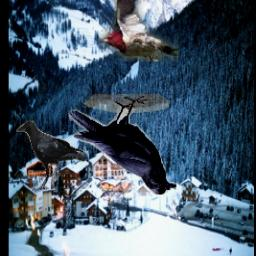Crow: (69, 94, 177, 195), (16, 118, 85, 190)
Woodpecker: (98, 0, 178, 63)
